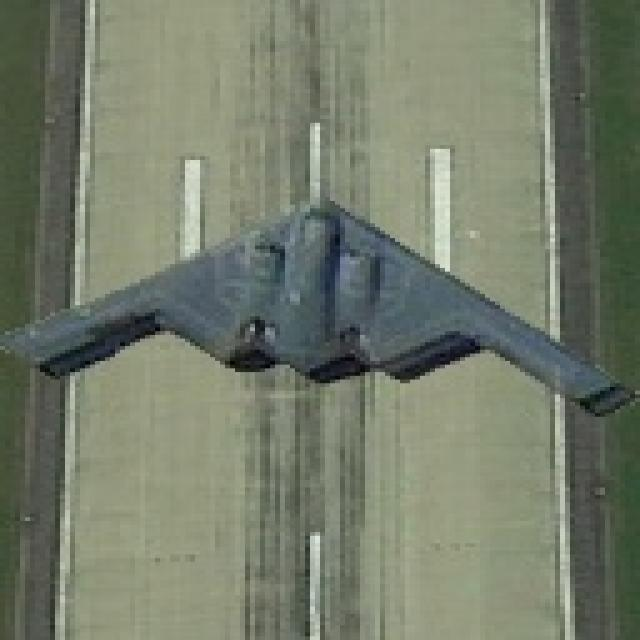B-2_TopDown: (0, 180, 635, 421)
